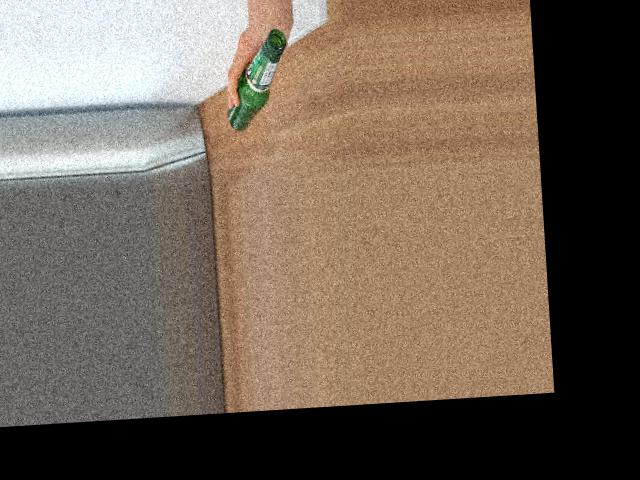beer: (223, 27, 292, 131)
